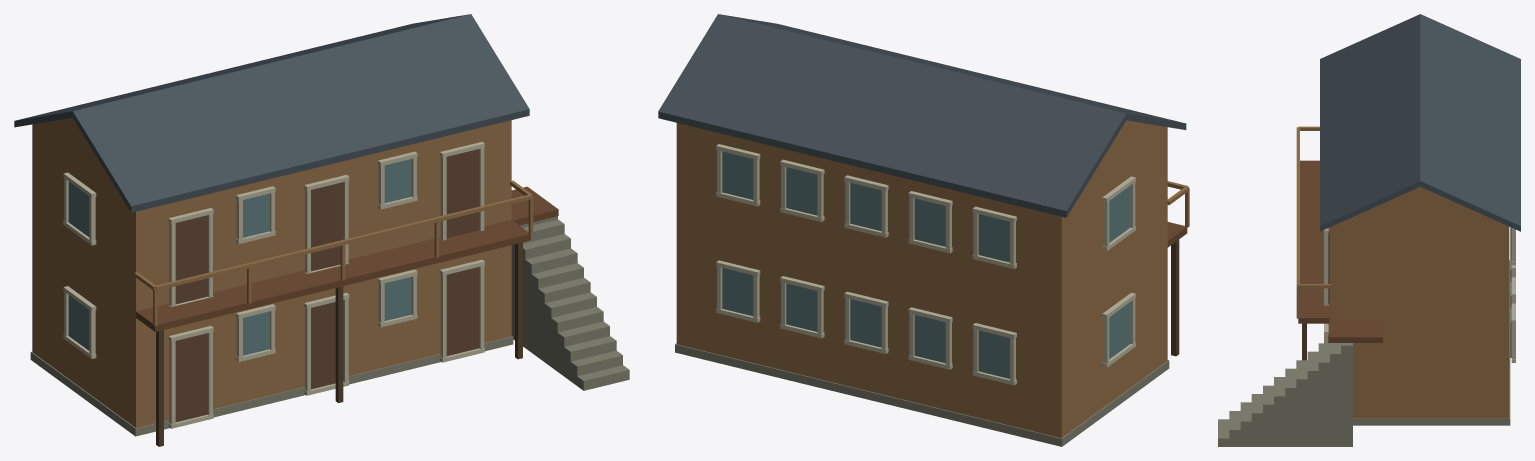
The model's file is Building_Settlement_RailWorkersBunkhouse_001_LOD1.glb.
The picture shows the model from 3 angles, left to right: view 1: azimuth 30°, elevation 25°; view 2: azimuth 150°, elevation 25°; view 3: azimuth 270°, elevation 25°; orthographic projection. The views are drawn at different scales.
Visible parts, largest first — view 1: Building_Settlement_RailWorkersBunkhouse_001_LOD1; view 2: Building_Settlement_RailWorkersBunkhouse_001_LOD1; view 3: Building_Settlement_RailWorkersBunkhouse_001_LOD1.
Boxes of the visible parts, x1,y1,x2,y2 form: Building_Settlement_RailWorkersBunkhouse_001_LOD1: (14,14,629,446); Building_Settlement_RailWorkersBunkhouse_001_LOD1: (658,14,1189,446); Building_Settlement_RailWorkersBunkhouse_001_LOD1: (1218,14,1520,446).
Size of the model in its own units: 10.53 by 6.63 by 7.31.
